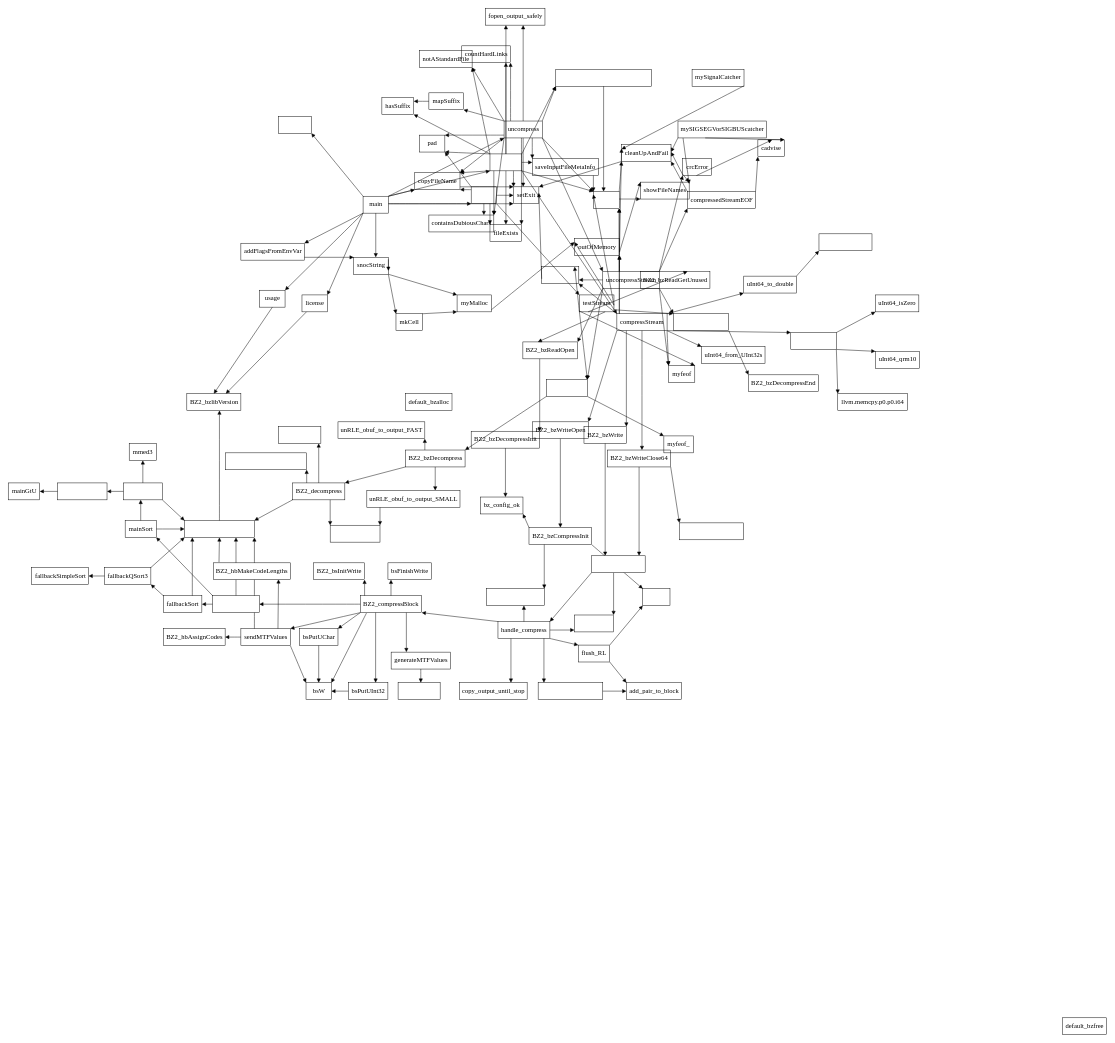
This 1115x1043 diagram has some shape labels left out. Here are the shapes that lost their labels. From the top down, the box of each, then its label:
(555, 69, 651, 86): applySavedMetaInfoToOutputFile
(278, 116, 311, 133): redundant
(490, 153, 522, 171): compress
(471, 186, 497, 204): testf
(593, 191, 619, 208): ioError
(819, 233, 872, 251): llvm.fmuladd.f64
(541, 266, 579, 284): configError
(673, 313, 729, 331): BZ2_bzReadClose
(790, 332, 836, 349): uInt64_toAscii
(546, 379, 587, 396): BZ2_bzRead
(278, 426, 321, 443): makeMaps_d
(225, 452, 307, 470): BZ2_hbCreateDecodeTables
(57, 482, 107, 500): mainSimpleSort
(123, 482, 162, 500): mainQSort3
(184, 520, 254, 537): BZ2_bz__AssertH__fail
(330, 525, 380, 542): BZ2_indexIntoF
(679, 522, 743, 540): BZ2_bzCompressEnd
(591, 555, 645, 573): BZ2_bzCompress
(212, 595, 259, 613): BZ2_blockSort
(486, 588, 544, 606): prepare_new_block
(642, 588, 670, 606): init_RL
(574, 615, 614, 632): isempty_RL
(398, 682, 440, 700): makeMaps_e
(538, 682, 603, 700): copy_input_until_stop
